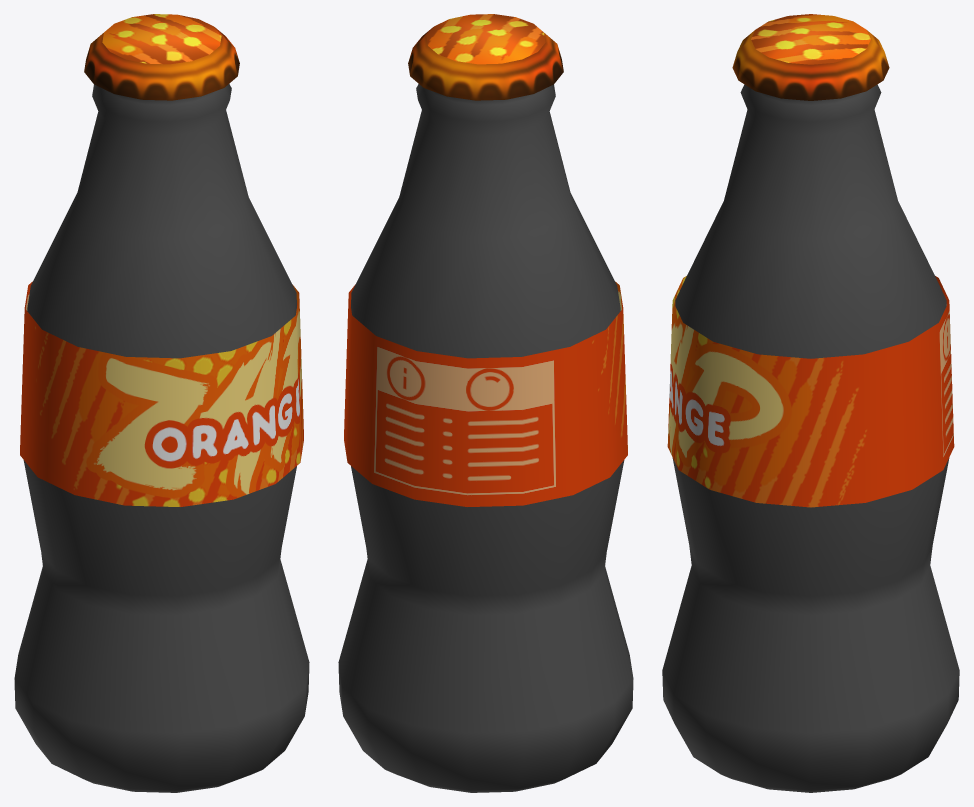
File: Pop_Bottle_03.fbx
3 views of the same model, side by side, from view 1: azimuth 30°, elevation 25°; view 2: azimuth 150°, elevation 25°; view 3: azimuth 270°, elevation 25° (orthographic).
Parts seen in each view (by area): view 1: Pop_Bottle_03; view 2: Pop_Bottle_03; view 3: Pop_Bottle_03.
Boxes of the visible parts, x1,y1,x2,y2 form: Pop_Bottle_03: (14, 14, 309, 792); Pop_Bottle_03: (338, 14, 633, 792); Pop_Bottle_03: (662, 14, 959, 792).
Size of the model in its own units: 2.46 by 6.5 by 2.46.
